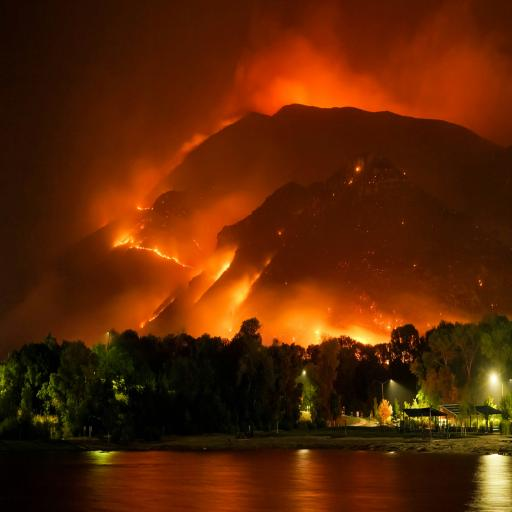wildfire: (10, 24, 512, 376)
